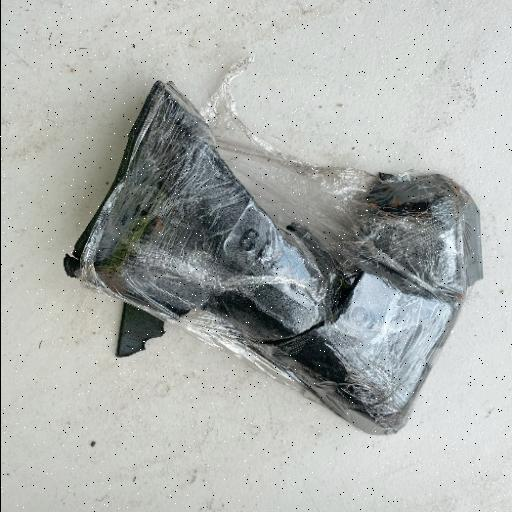Plastic: (62, 64, 484, 436)
